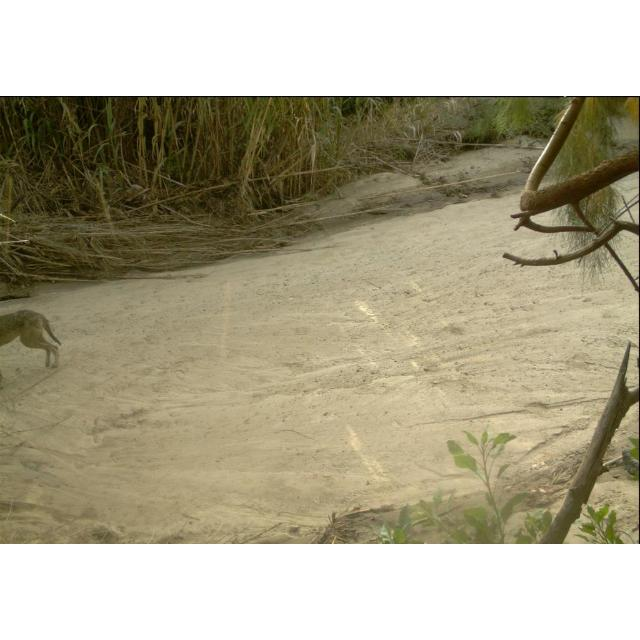animals: (1, 310, 62, 372)
